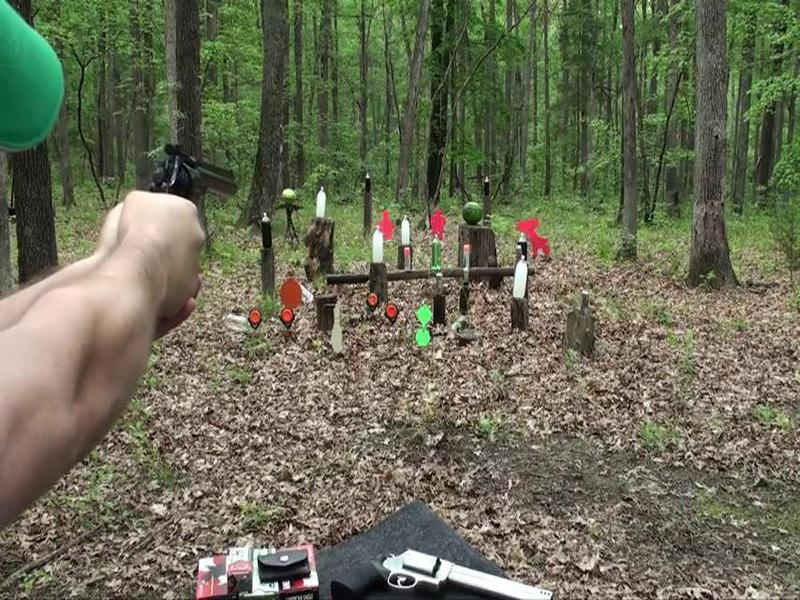Revolver: (144, 139, 257, 224)
